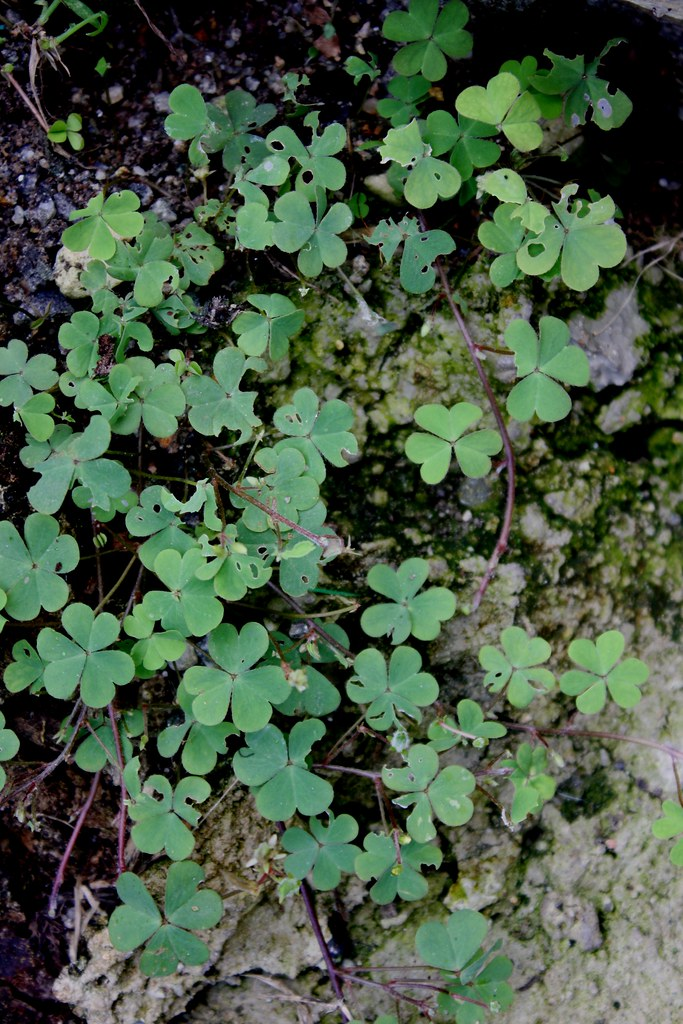oxalis: (40, 102, 620, 925)
